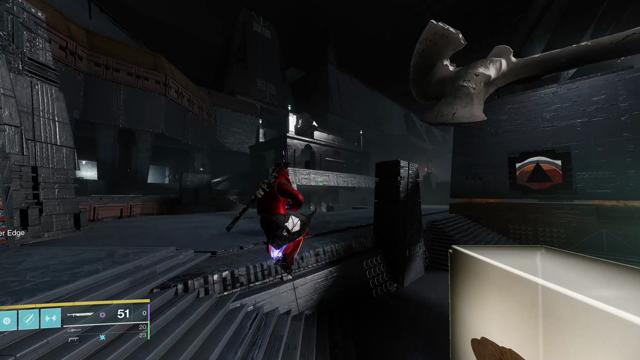pyramid: (515, 156, 563, 189)
